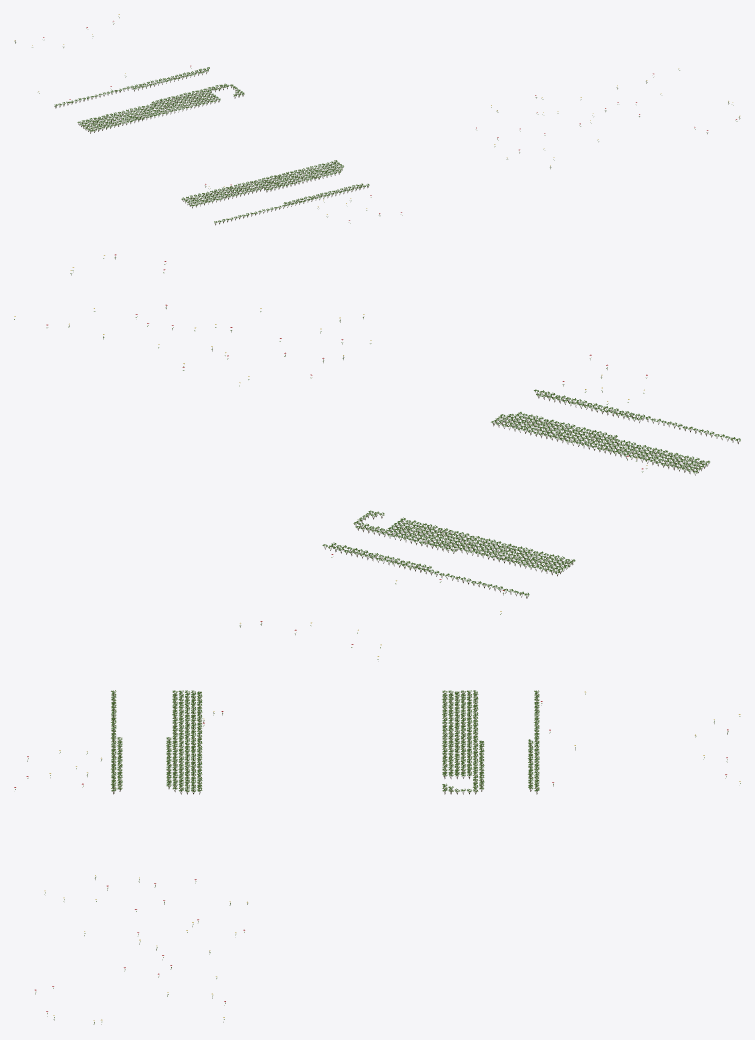
3 views of the same model, one above another, from view 1: azimuth 30°, elevation 25°; view 2: azimuth 150°, elevation 25°; view 3: azimuth 270°, elevation 25° (orthographic). The views are drawn at different scales.
Parts seen in each view (by area): view 1: GROUND_FLORA_s_-4_-2; view 2: GROUND_FLORA_s_-4_-2; view 3: GROUND_FLORA_s_-4_-2.
Part boxes in pixels (x1=…): GROUND_FLORA_s_-4_-2: x1=14, y1=14, x2=740, y2=225; GROUND_FLORA_s_-4_-2: x1=14, y1=254, x2=740, y2=659; GROUND_FLORA_s_-4_-2: x1=14, y1=690, x2=740, y2=1024.
Bounding box in the file's own units: 128 × 0.9729 × 119.
